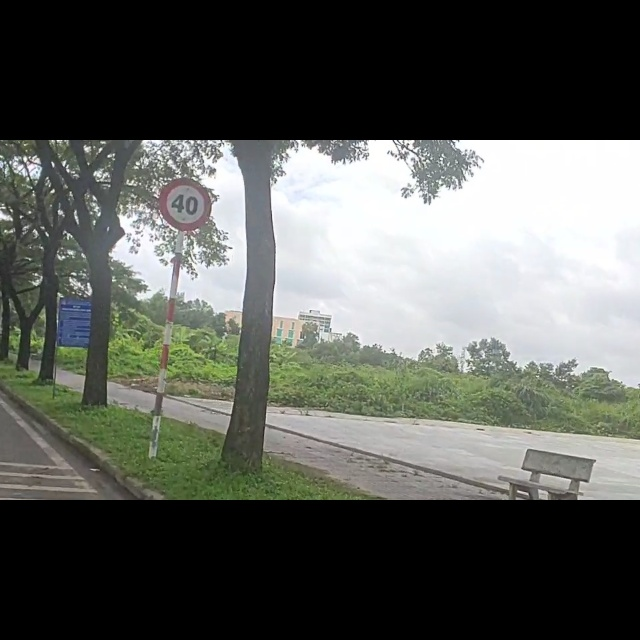Tốc độ tối đa cho phép 40km/h: (159, 177, 213, 233)
